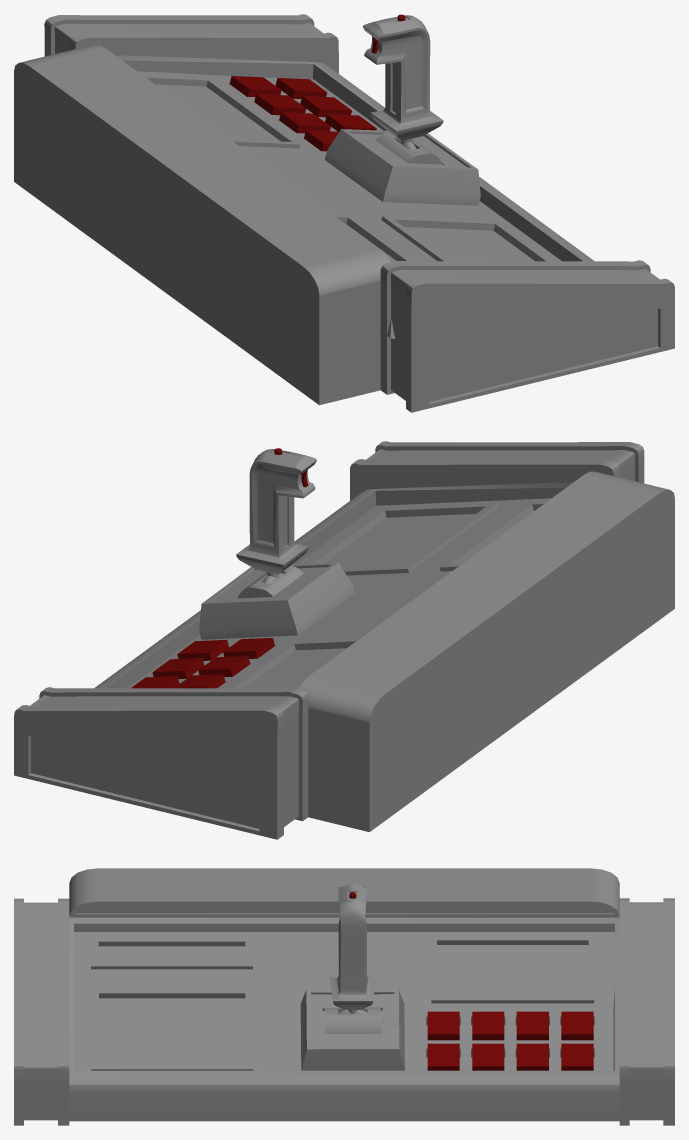
File: ControlPanel_W_Joystick.fbx
The picture shows the model from 3 angles, top to bottom: view 1: azimuth 30°, elevation 25°; view 2: azimuth 150°, elevation 25°; view 3: azimuth 270°, elevation 25°; orthographic projection. The views are drawn at different scales.
Visible parts, largest first — view 1: ConsoleBase, MainPanelBase, JoystickBase, JoystickHandle, pCylinder1, Button03, Button07, Button06, Button08, Button05, Button04; view 2: ConsoleBase, MainPanelBase, JoystickBase, JoystickHandle, pCylinder1, Button03, Button02, Button04, Button01, Button07; view 3: ConsoleBase, MainPanelBase, JoystickBase, JoystickHandle, pCylinder1, Button06, Button02, Button03, Button07, Button05, Button01, Button04 (+1 smaller).
Boxes of the visible parts, left/top/right/bottom form: ConsoleBase: left=14, top=14, right=674, bottom=412; MainPanelBase: left=137, top=71, right=561, bottom=338; JoystickBase: left=324, top=129, right=480, bottom=205; JoystickHandle: left=363, top=15, right=443, bottom=140; pCylinder1: left=376, top=132, right=441, bottom=164; Button03: left=279, top=112, right=330, bottom=133; Button07: left=254, top=94, right=306, bottom=115; Button06: left=229, top=76, right=281, bottom=97; Button08: left=300, top=96, right=351, bottom=117; Button05: left=275, top=78, right=327, bottom=98; Button04: left=325, top=114, right=376, bottom=131; ConsoleBase: left=14, top=441, right=674, bottom=839; MainPanelBase: left=127, top=498, right=551, bottom=688; JoystickBase: left=199, top=562, right=354, bottom=639; JoystickHandle: left=236, top=449, right=316, bottom=574; pCylinder1: left=237, top=566, right=303, bottom=598; Button03: left=198, top=656, right=250, bottom=676; Button02: left=223, top=638, right=274, bottom=658; Button04: left=152, top=658, right=204, bottom=678; Button01: left=177, top=639, right=228, bottom=660; Button07: left=174, top=674, right=225, bottom=688; ConsoleBase: left=14, top=868, right=674, bottom=1125; MainPanelBase: left=74, top=932, right=614, bottom=1070; JoystickBase: left=300, top=989, right=404, bottom=1070; JoystickHandle: left=329, top=884, right=375, bottom=1009; pCylinder1: left=324, top=1007, right=381, bottom=1033; Button06: left=561, top=1011, right=593, bottom=1040; Button02: left=427, top=1011, right=459, bottom=1040; Button03: left=472, top=1011, right=504, bottom=1040; Button07: left=516, top=1011, right=548, bottom=1040; Button05: left=561, top=1043, right=593, bottom=1070; Button01: left=427, top=1043, right=459, bottom=1070; Button04: left=472, top=1043, right=504, bottom=1070.
Bounding box in the file's own units: 8.72 × 5.55 × 17.05.
